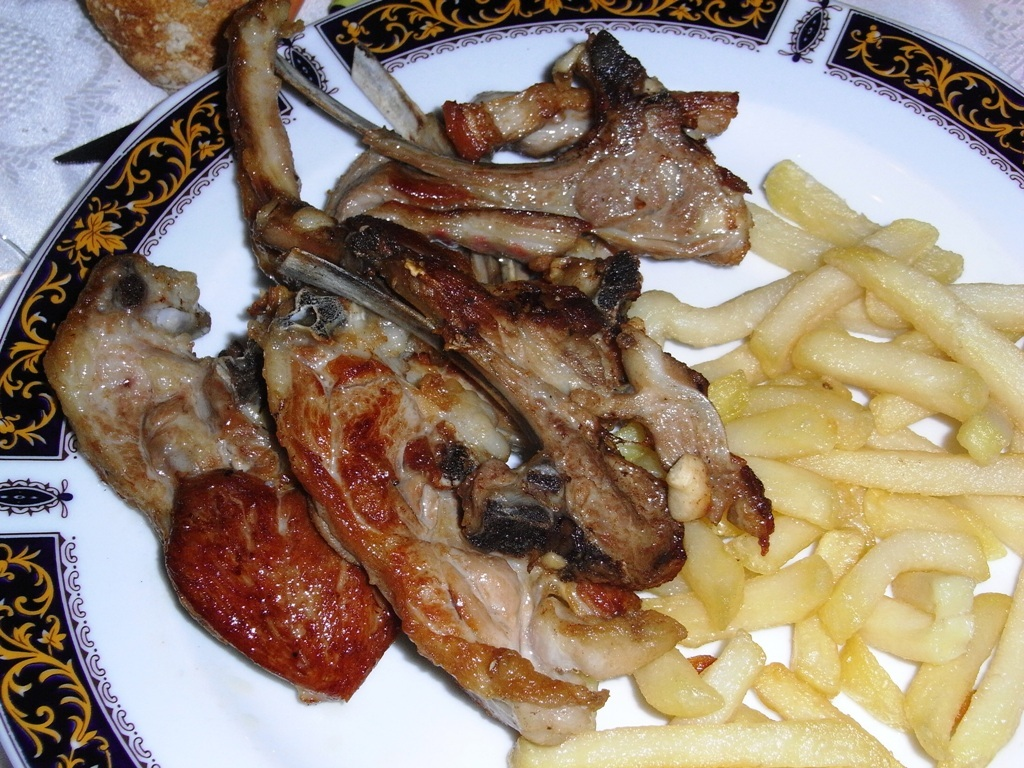French fries: (638, 132, 1002, 740)
